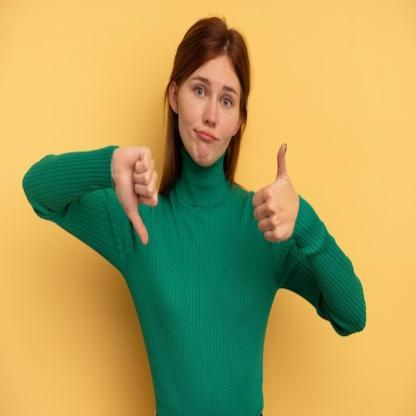thumb_down: (114, 140, 161, 249)
thumb_up: (250, 139, 298, 244)
